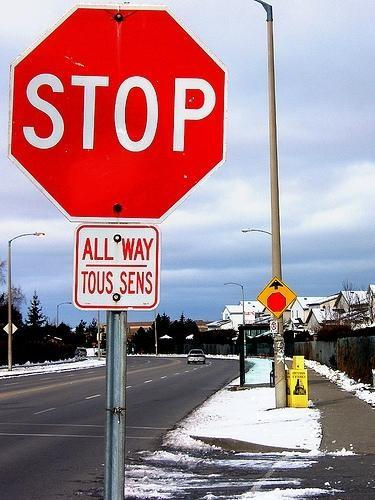car: (186, 349, 205, 364), (75, 348, 88, 356), (94, 349, 107, 356)
